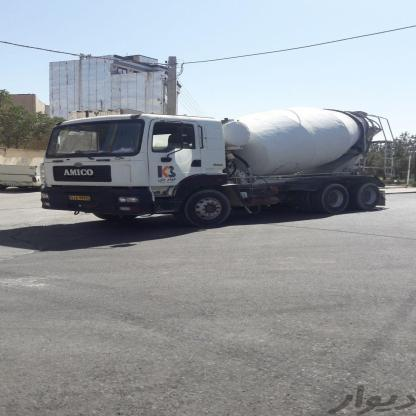Truck: (32, 104, 402, 222)
